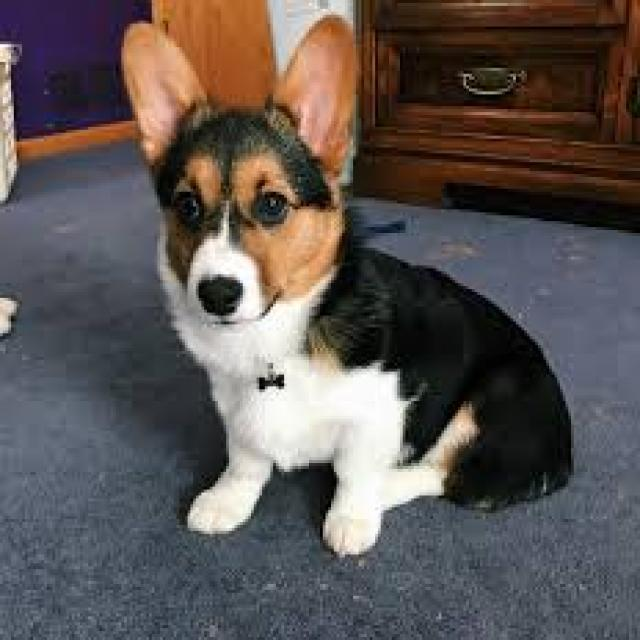CORGI: (124, 6, 587, 555)
